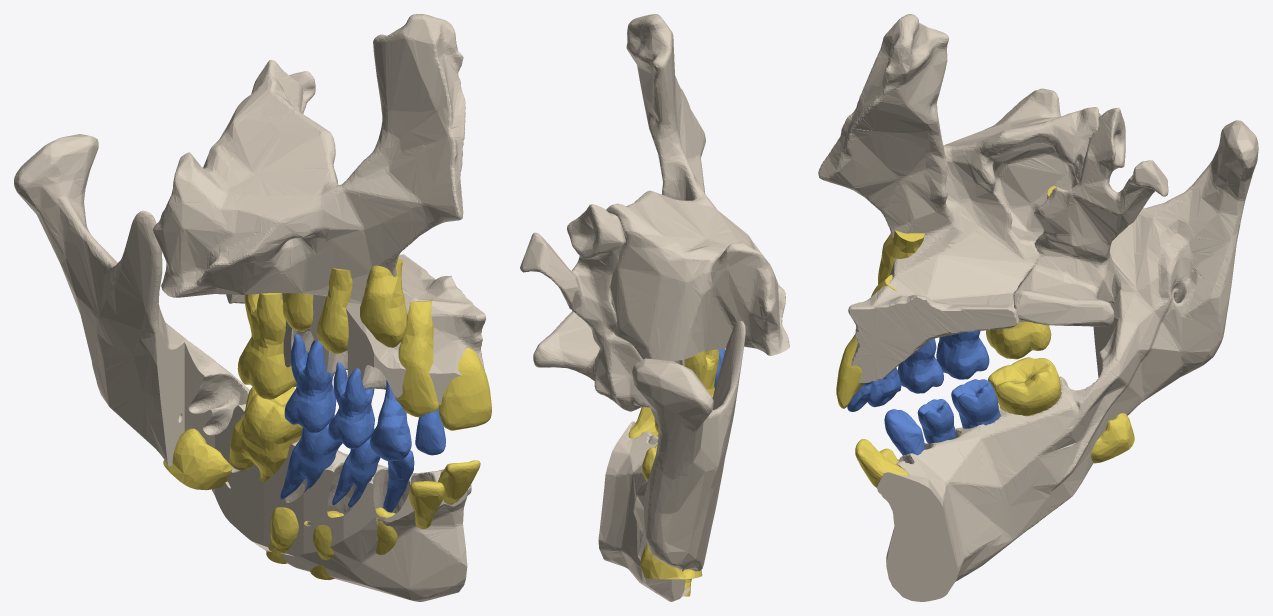
The model's file is age-7-5.glb.
The picture shows the model from 3 angles, left to right: view 1: azimuth 30°, elevation 25°; view 2: azimuth 150°, elevation 25°; view 3: azimuth 270°, elevation 25°; orthographic projection. The views are drawn at different scales.
Parts seen in each view (by area): view 1: upper-bone, lower-bone, upper-adult-teeth, lower-adult-teeth, upper-baby-teeth, lower-baby-teeth; view 2: upper-bone, lower-bone, lower-adult-teeth, upper-adult-teeth; view 3: upper-bone, lower-bone, lower-adult-teeth, upper-baby-teeth, lower-baby-teeth, upper-adult-teeth.
Boxes of the visible parts, x1=… form: upper-bone: x1=153, y1=14, x2=485, y2=404; lower-bone: x1=14, y1=134, x2=471, y2=601; upper-adult-teeth: x1=237, y1=259, x2=491, y2=430; lower-adult-teeth: x1=163, y1=387, x2=480, y2=579; upper-baby-teeth: x1=284, y1=334, x2=445, y2=461; lower-baby-teeth: x1=280, y1=414, x2=414, y2=512; upper-bone: x1=520, y1=14, x2=789, y2=411; lower-bone: x1=598, y1=321, x2=745, y2=601; lower-adult-teeth: x1=628, y1=407, x2=702, y2=596; upper-adult-teeth: x1=654, y1=349, x2=718, y2=432; upper-bone: x1=818, y1=14, x2=1168, y2=382; lower-bone: x1=877, y1=120, x2=1258, y2=601; lower-adult-teeth: x1=855, y1=357, x2=1134, y2=528; upper-baby-teeth: x1=847, y1=330, x2=989, y2=411; lower-baby-teeth: x1=884, y1=379, x2=1000, y2=455; upper-adult-teeth: x1=836, y1=186, x2=1059, y2=408.
Size of the model in its own units: 0.0519 by 0.1088 by 0.0759.
